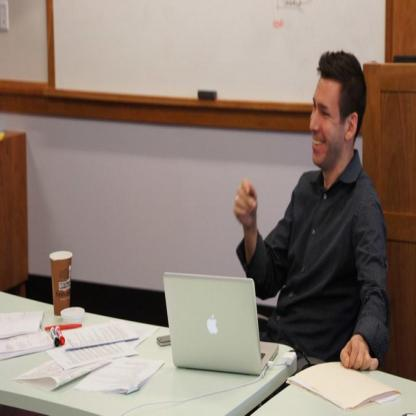board: (162, 272, 278, 377)
